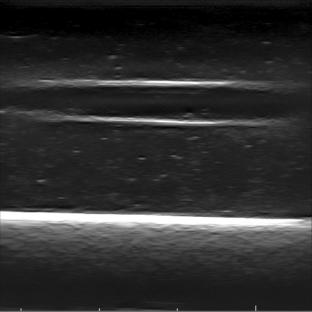vessel: (7, 78, 300, 128)
